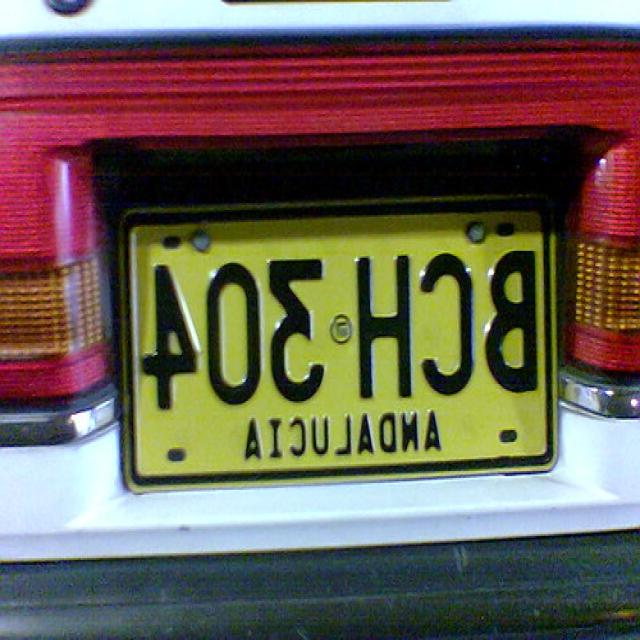placas: (139, 237, 546, 421)
